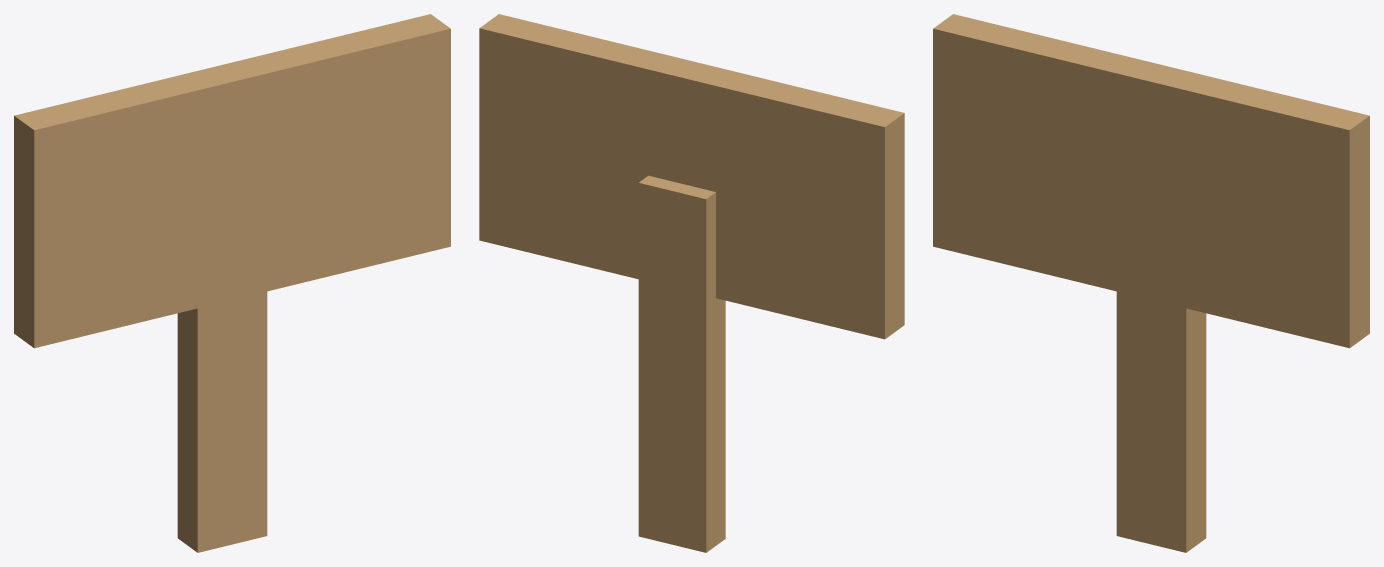
3 renders of one model, left to right at view 1: azimuth 30°, elevation 25°; view 2: azimuth 150°, elevation 25°; view 3: azimuth 330°, elevation 25°, orthographic. The views are drawn at different scales.
Visible parts, largest first — view 1: Board, Rod; view 2: Board, Rod; view 3: Board, Rod.
Part boxes in pixels (box(x1,y1,x2,y2)): Board: box(14, 14, 450, 348); Rod: box(177, 291, 267, 552); Board: box(479, 14, 904, 339); Rod: box(638, 175, 725, 552); Board: box(933, 14, 1369, 348); Rod: box(1116, 291, 1206, 552).
Bounding box in the file's own units: 0.9 × 0.975 × 0.1125.
